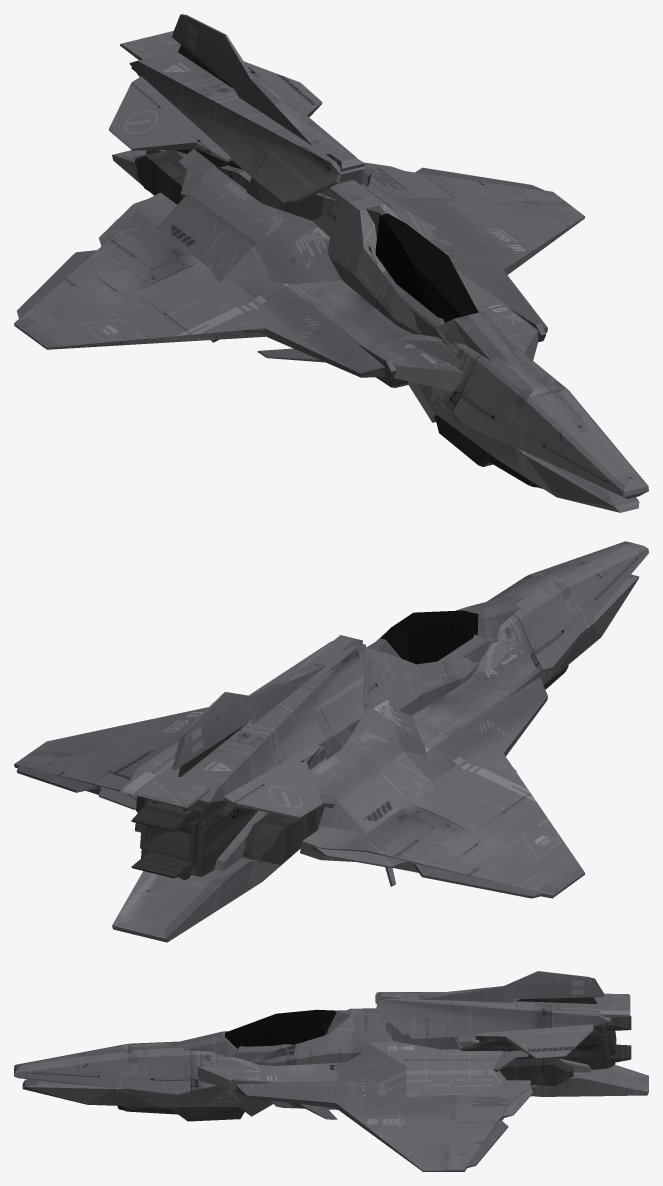
The model's file is omega_fighter_g.FBX.
3 views of the same model, one above another, from view 1: azimuth 30°, elevation 25°; view 2: azimuth 150°, elevation 25°; view 3: azimuth 270°, elevation 25° (orthographic). The views are drawn at different scales.
Visible parts, largest first — view 1: polySurface1; view 2: polySurface1; view 3: polySurface1.
Boxes of the visible parts, x1=… form: polySurface1: x1=14, y1=14, x2=648, y2=512; polySurface1: x1=14, y1=541, x2=648, y2=942; polySurface1: x1=14, y1=971, x2=648, y2=1171.
Bounding box in the file's own units: 2116 × 857 × 3383.
